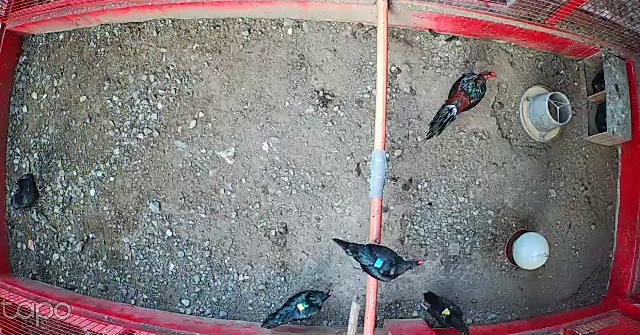Chicken: (327, 229, 427, 282), (258, 285, 336, 333), (418, 285, 471, 334), (5, 173, 58, 213)
Rooster: (422, 67, 498, 144)
Saddle_Color_Blue: (375, 258, 386, 269)
Saddle_Color_Yellow: (443, 305, 452, 316)
Saddle_Color_YellowGreen: (296, 299, 308, 312)
